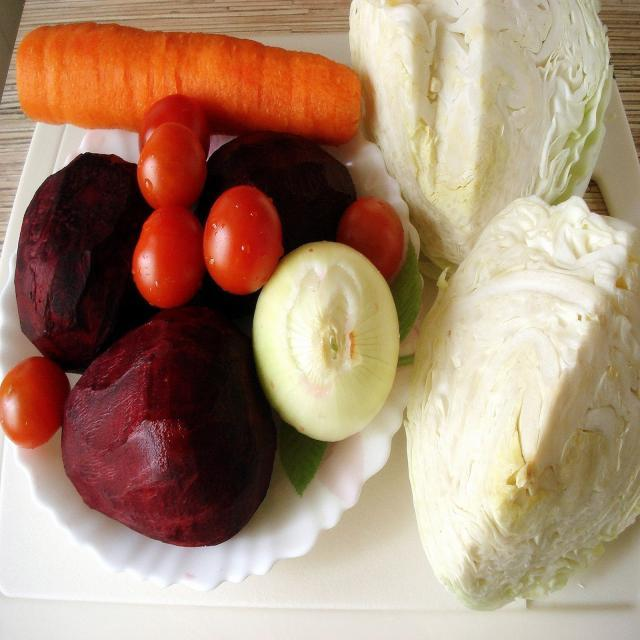beet: (64, 312, 274, 539), (19, 151, 155, 354), (199, 123, 353, 261)
cabbage: (407, 188, 640, 614), (343, 1, 607, 255)
carrot: (14, 24, 371, 146)
onion: (255, 235, 402, 443)
tomato: (199, 179, 287, 299), (123, 206, 205, 307), (1, 338, 70, 457), (332, 187, 412, 283), (133, 120, 211, 210)
